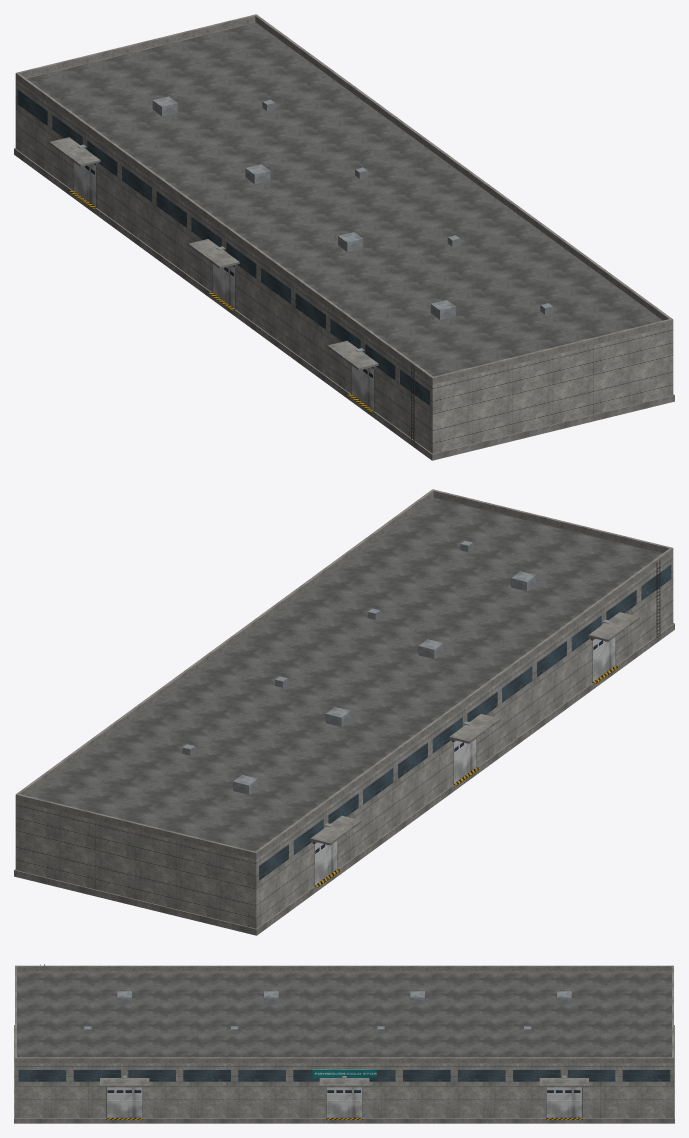
Rendered from wh_panel.glb.
The picture shows the model from 3 angles, top to bottom: view 1: azimuth 30°, elevation 25°; view 2: azimuth 150°, elevation 25°; view 3: azimuth 270°, elevation 25°; orthographic projection. The views are drawn at different scales.
Visible parts, largest first — view 1: wh_panel; view 2: wh_panel; view 3: wh_panel.
Boxes of the visible parts, x1,y1,x2,y2 form: wh_panel: (14,14,674,460); wh_panel: (14,489,674,935); wh_panel: (14,964,674,1123).
Size of the model in its own units: 28 by 8.05 by 72.2.
1 material, 1 textured.
